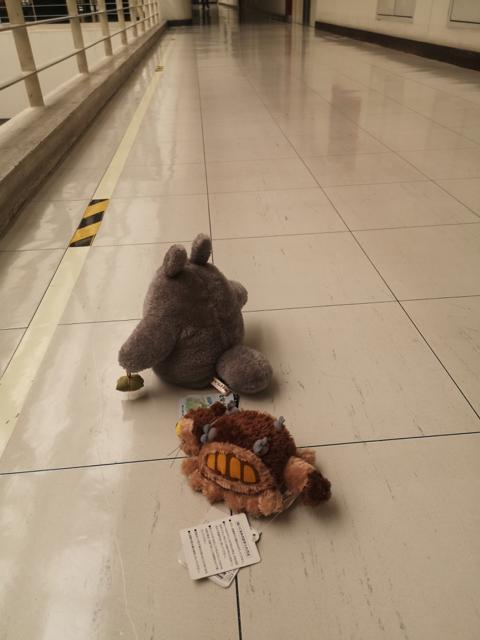nekobus: (168, 404, 339, 520)
totoro: (111, 233, 278, 400)
